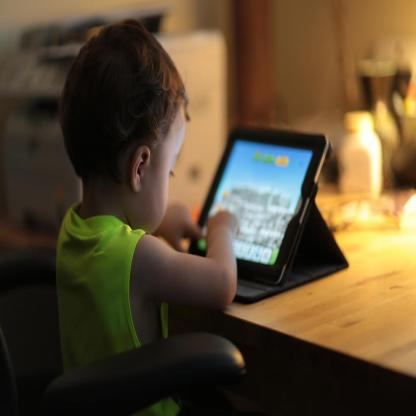board: (167, 124, 342, 302)
